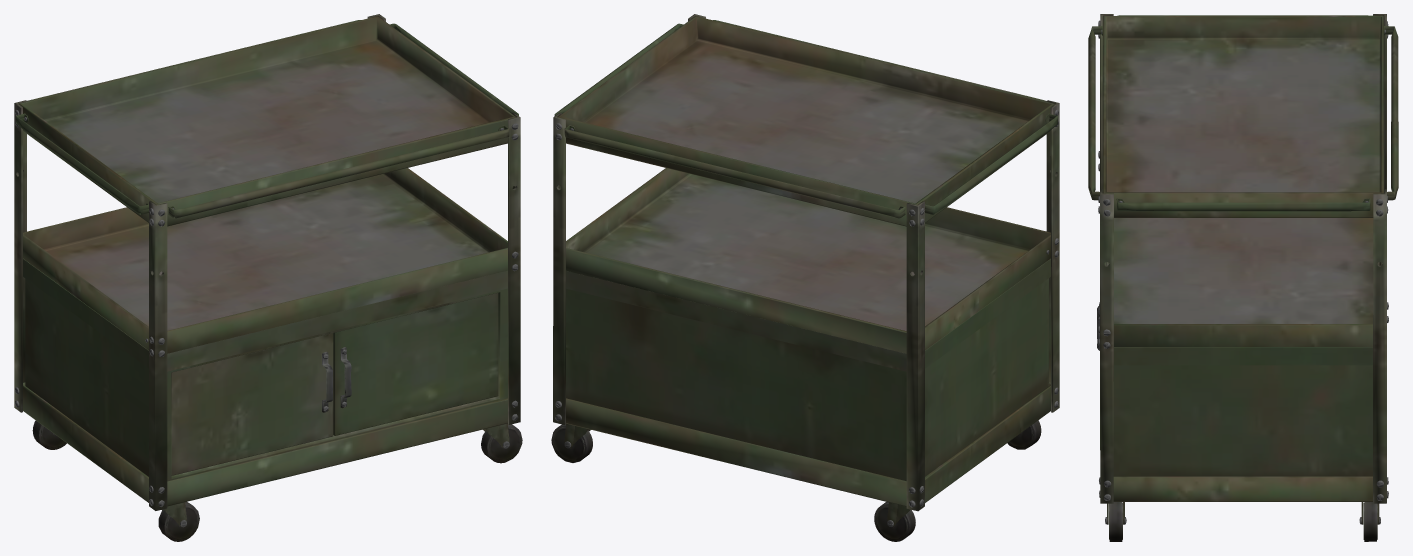
The model's file is industrial_storage_cart.glb.
3 renders of one model, left to right at view 1: azimuth 30°, elevation 25°; view 2: azimuth 150°, elevation 25°; view 3: azimuth 270°, elevation 25°, orthographic.
Parts seen in each view (by area): view 1: industrial_storage_cart; view 2: industrial_storage_cart; view 3: industrial_storage_cart.
Boxes of the visible parts, left/top/right/bottom form: industrial_storage_cart: left=14, top=14, right=522, bottom=541; industrial_storage_cart: left=551, top=14, right=1059, bottom=541; industrial_storage_cart: left=1088, top=14, right=1398, bottom=541.
Bounding box in the file's own units: 1.6 × 1.38 × 1.1.
1 material, 1 textured.
